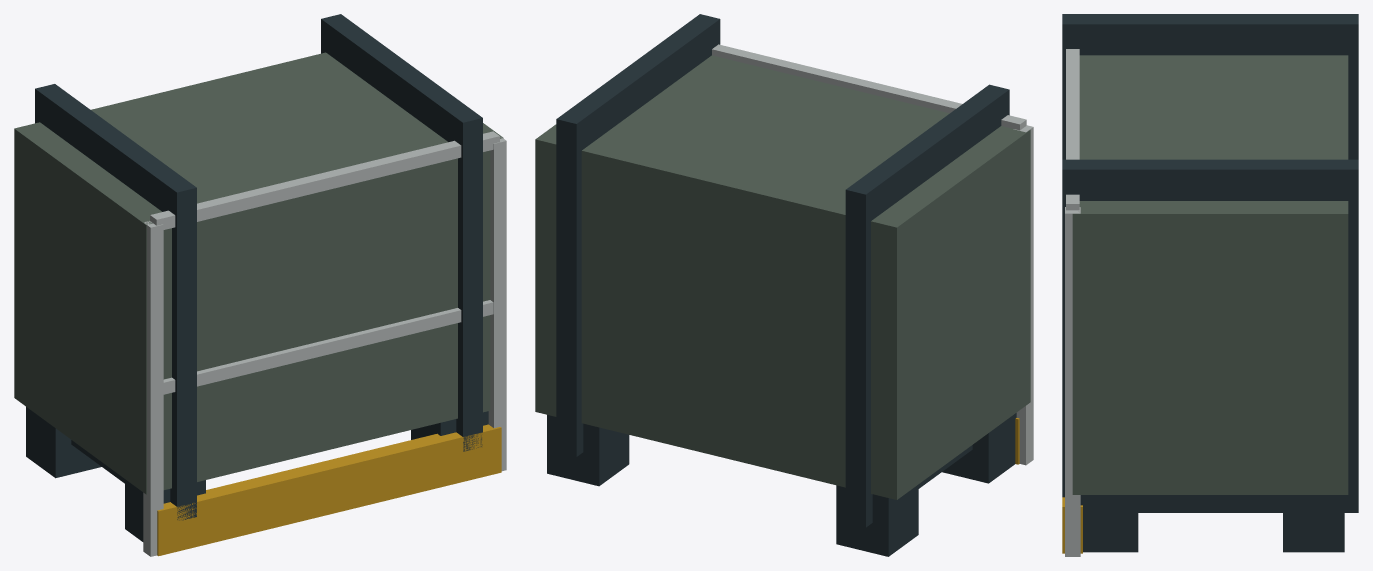
Rendered from cart.glb.
3 views of the same model, side by side, from view 1: azimuth 30°, elevation 25°; view 2: azimuth 150°, elevation 25°; view 3: azimuth 270°, elevation 25° (orthographic). The views are drawn at different scales.
Parts seen in each view (by area): view 1: body; view 2: body; view 3: body.
Part boxes in pixels (x1,y1,x2,y2): body: (14, 14, 506, 556); body: (535, 14, 1033, 556); body: (1062, 14, 1358, 556).
Size of the model in its own units: 1.25 by 1.2 by 0.86.
